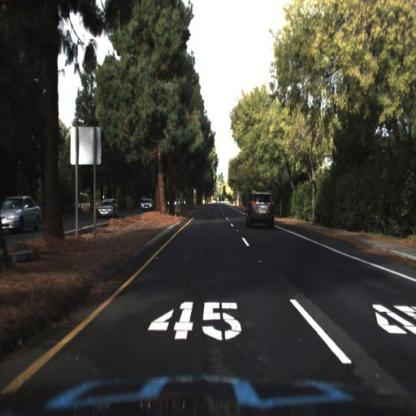car: (1, 195, 43, 235), (244, 190, 275, 230), (95, 198, 120, 222), (140, 196, 156, 215), (141, 200, 153, 216)
